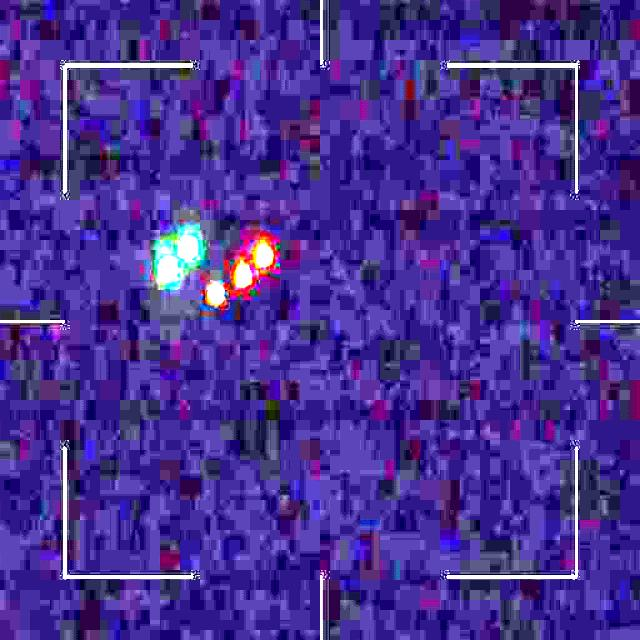bird: (156, 234, 274, 308)
